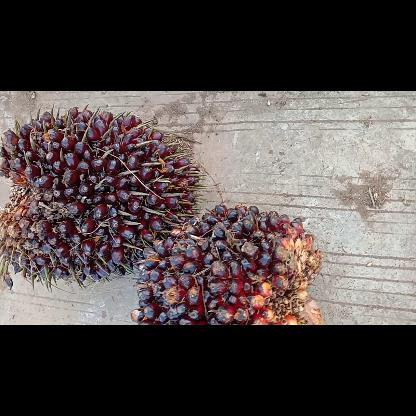TBS mentah: (0, 106, 206, 290), (130, 204, 322, 324)
